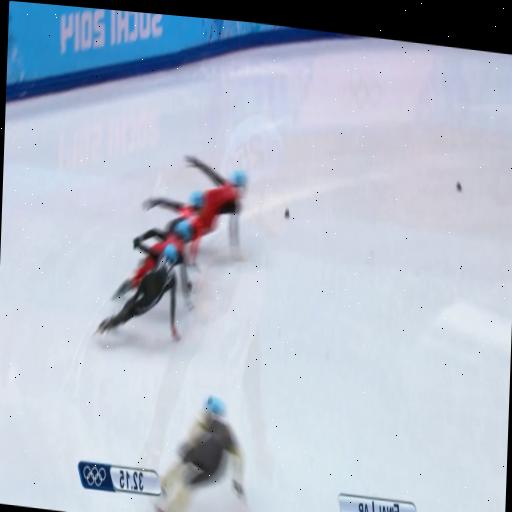Skater: (155, 397, 242, 511), (143, 157, 246, 248), (96, 245, 178, 341), (112, 219, 191, 307)
